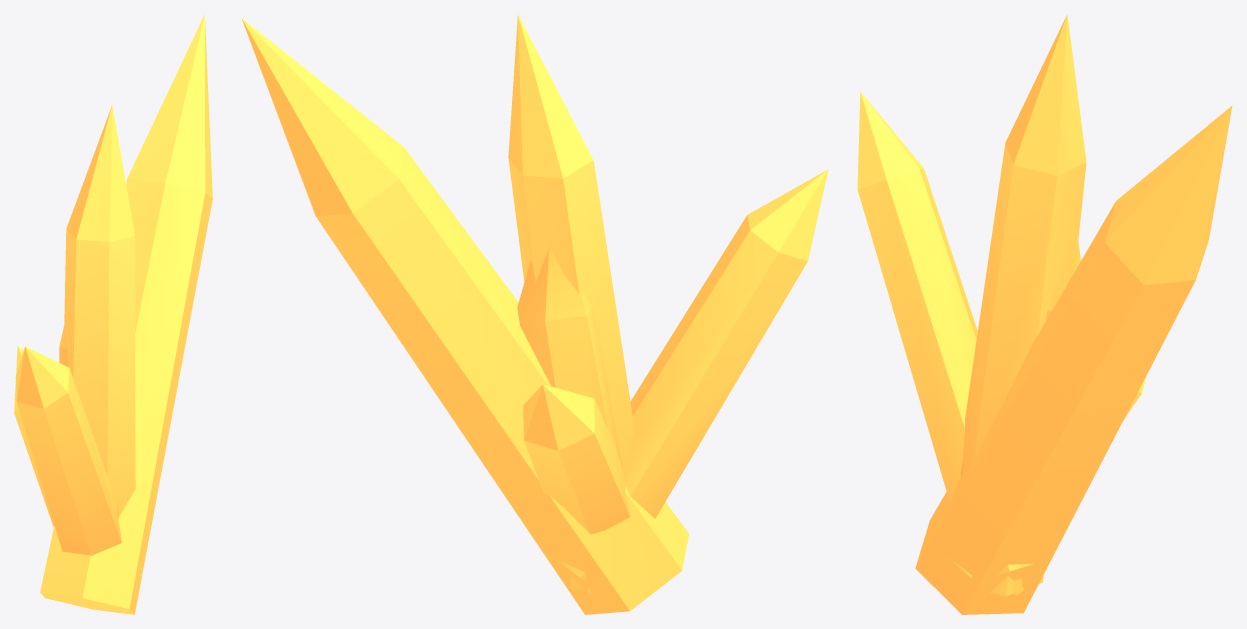
The model's file is obj_deco_cristales.glb.
The picture shows the model from 3 angles, left to right: view 1: azimuth 30°, elevation 25°; view 2: azimuth 150°, elevation 25°; view 3: azimuth 270°, elevation 25°; orthographic projection. The views are drawn at different scales.
Parts seen in each view (by area): view 1: propforge-libre-deco_cristales; view 2: propforge-libre-deco_cristales; view 3: propforge-libre-deco_cristales.
Part boxes in pixels (box(x1,y1,x2,y2)): propforge-libre-deco_cristales: box(14, 14, 212, 614); propforge-libre-deco_cristales: box(241, 14, 828, 614); propforge-libre-deco_cristales: box(857, 14, 1232, 614).
Size of the model in its own units: 0.4462 by 0.6428 by 0.3472.
